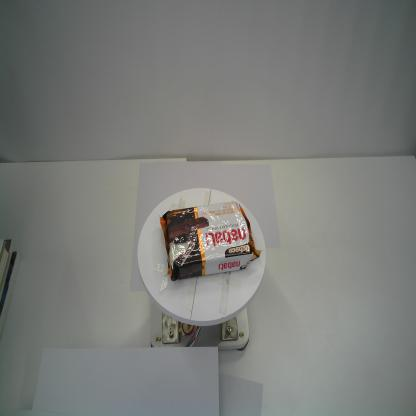Dessert: (157, 200, 263, 282)
